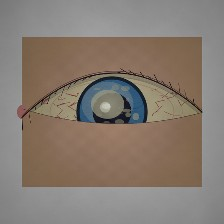corneal_ulcer: (81, 83, 135, 126)
